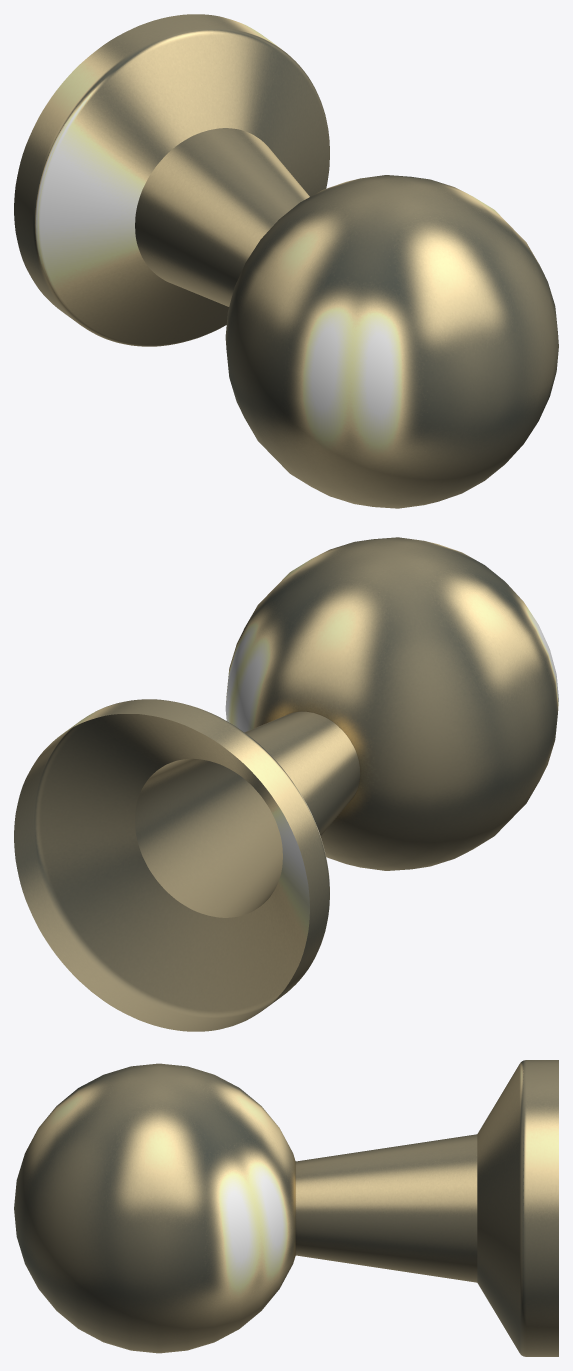
File: raw_model.obj
The picture shows the model from 3 angles, top to bottom: view 1: azimuth 30°, elevation 25°; view 2: azimuth 150°, elevation 25°; view 3: azimuth 270°, elevation 25°; orthographic projection. The views are drawn at different scales.
Visible parts, largest first — view 1: solid; view 2: solid; view 3: solid.
Part boxes in pixels (x1=…): solid: x1=14, y1=14, x2=558, y2=508; solid: x1=14, y1=537, x2=558, y2=1031; solid: x1=14, y1=1060, x2=558, y2=1356.
Size of the model in its own units: 0.0143 by 0.0143 by 0.0263.
1 material, 1 textured.
